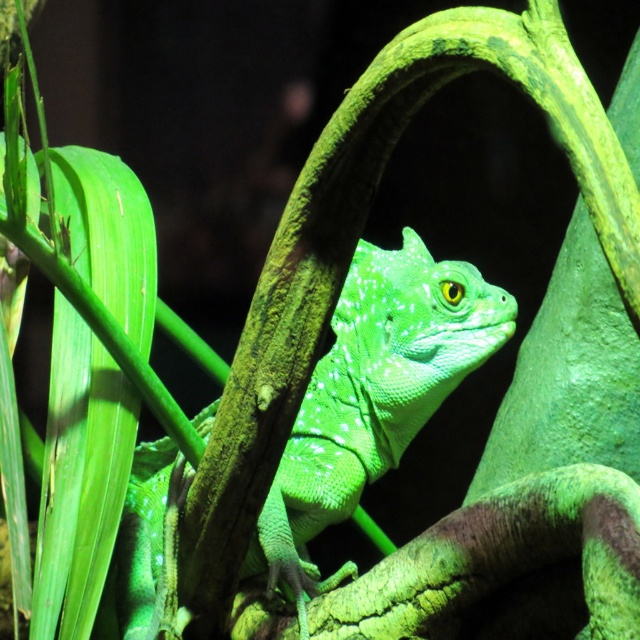Lizard: (111, 227, 518, 640)
